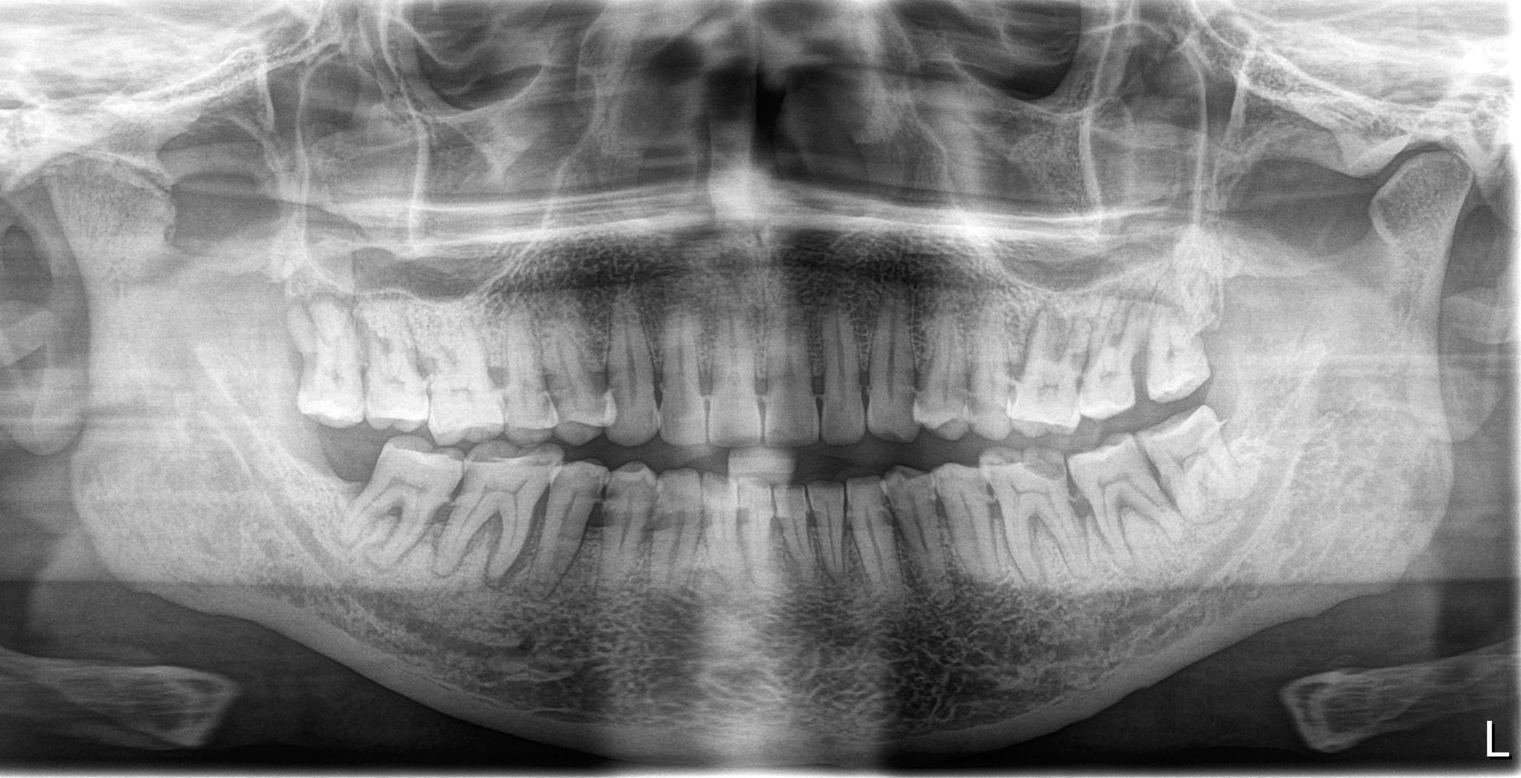Missing Tooth: (306, 444, 354, 544)
